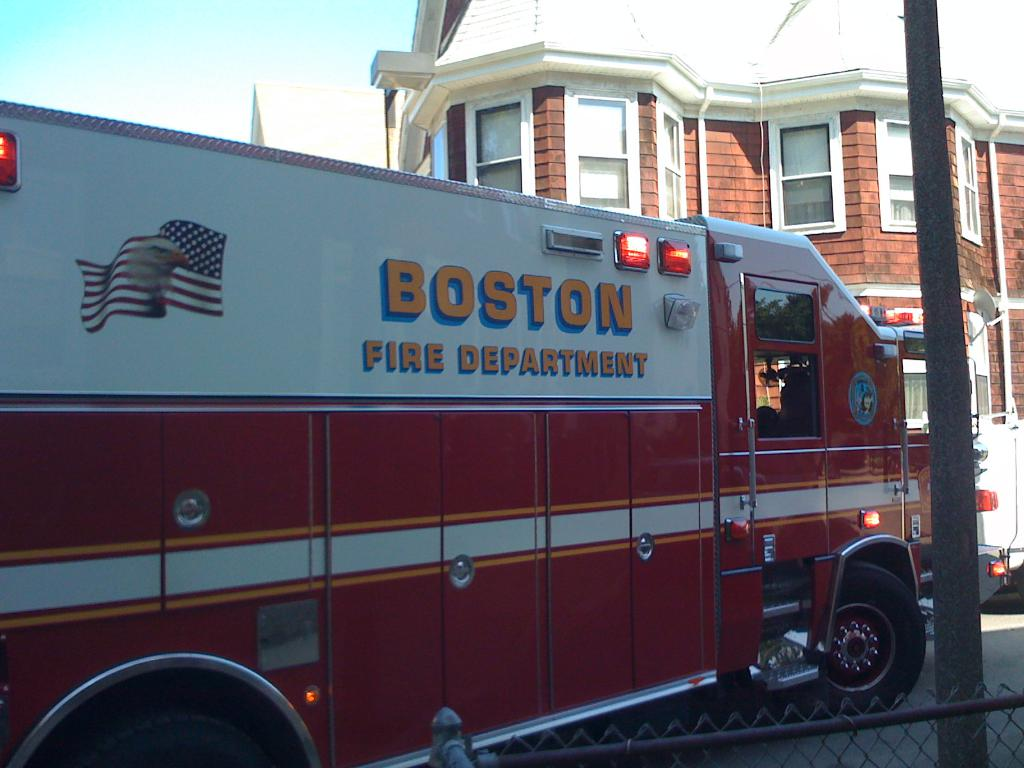truck: (1, 96, 935, 768)
